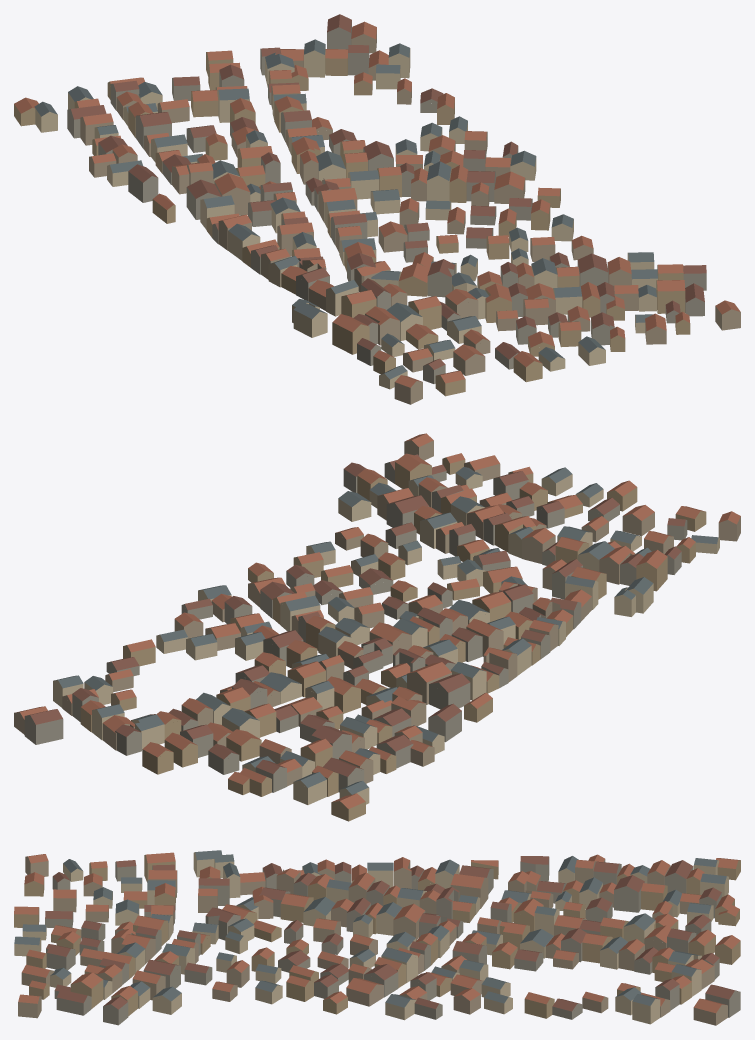
The picture shows the model from 3 angles, top to bottom: view 1: azimuth 30°, elevation 25°; view 2: azimuth 150°, elevation 25°; view 3: azimuth 270°, elevation 25°; orthographic projection. The views are drawn at different scales.
Visible parts, largest first — view 1: C_-1_2; view 2: C_-1_2; view 3: C_-1_2.
Part boxes in pixels (left/top/right/bottom): C_-1_2: left=14, top=14, right=740, bottom=404; C_-1_2: left=14, top=433, right=740, bottom=821; C_-1_2: left=14, top=850, right=740, bottom=1025.
Bounding box in the file's own units: 190 × 14.63 × 370.
